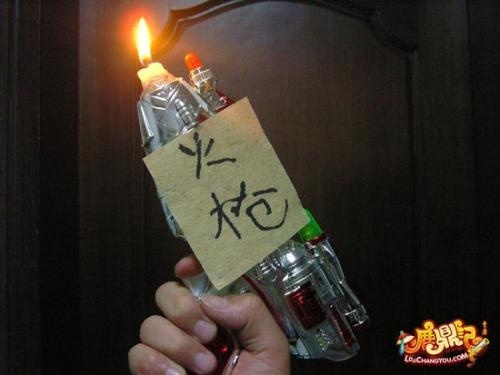fire: (133, 15, 155, 65), (184, 51, 201, 71)
